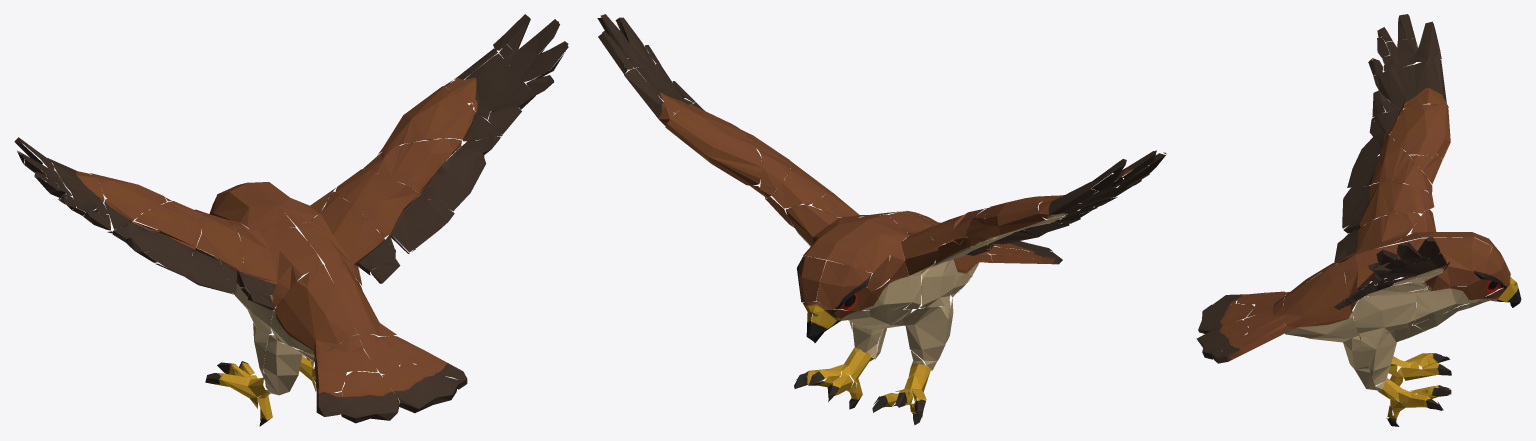
The model's file is hawk.glb.
3 views of the same model, side by side, from view 1: azimuth 30°, elevation 25°; view 2: azimuth 150°, elevation 25°; view 3: azimuth 270°, elevation 25° (orthographic). The views are drawn at different scales.
Visible parts, largest first — view 1: tripo_node_6ae32097-e62c-46ca-bb25-93f69f17753d; view 2: tripo_node_6ae32097-e62c-46ca-bb25-93f69f17753d; view 3: tripo_node_6ae32097-e62c-46ca-bb25-93f69f17753d.
Part boxes in pixels (<box>): tripo_node_6ae32097-e62c-46ca-bb25-93f69f17753d: <box>14,14,568,426</box>; tripo_node_6ae32097-e62c-46ca-bb25-93f69f17753d: <box>597,14,1166,425</box>; tripo_node_6ae32097-e62c-46ca-bb25-93f69f17753d: <box>1196,14,1521,426</box>.
Size of the model in its own units: 1 by 0.5825 by 0.5985.
1 material, 1 textured.
